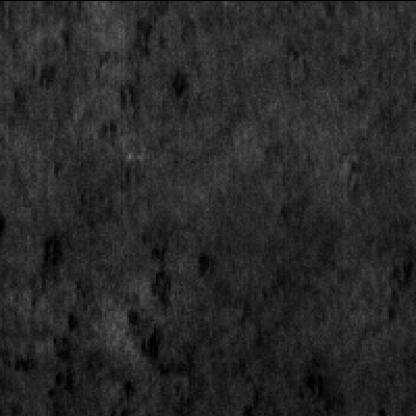rolled-in_scale: (43, 252, 312, 416), (83, 13, 192, 166)
